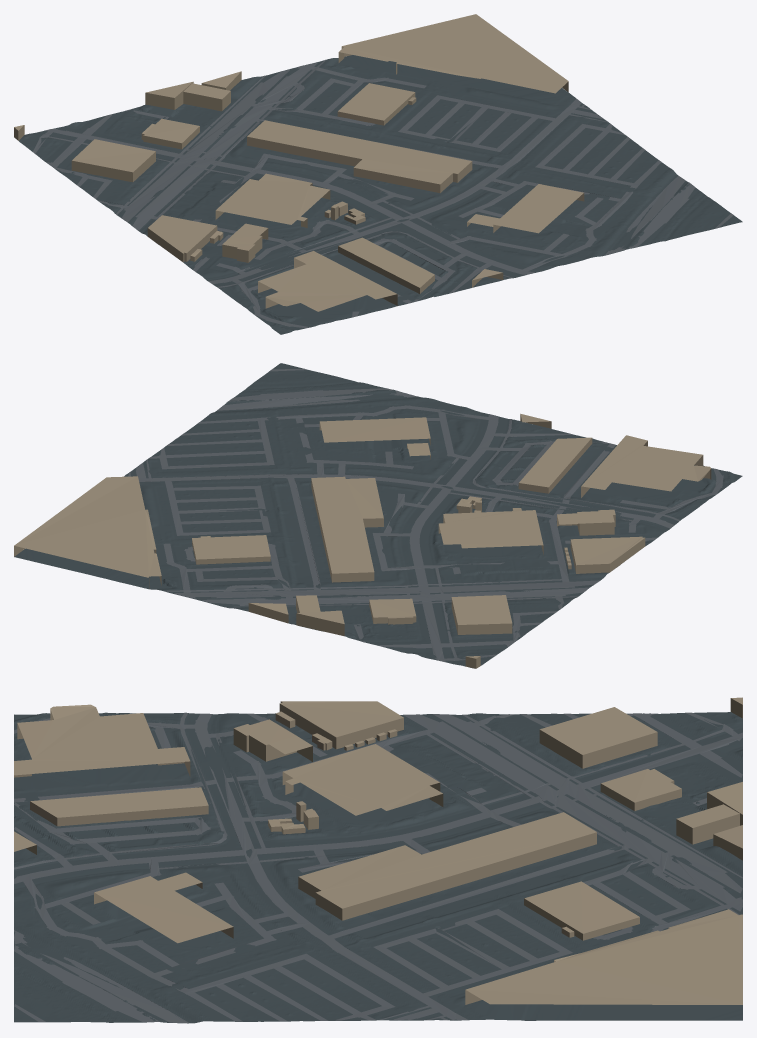
Rendered from epsg26910-1443-10878.lod0.glb.
3 views of the same model, one above another, from view 1: azimuth 30°, elevation 25°; view 2: azimuth 150°, elevation 25°; view 3: azimuth 270°, elevation 25° (orthographic). The views are drawn at different scales.
Visible parts, largest first — view 1: epsg26910-1443-10878-lod0; view 2: epsg26910-1443-10878-lod0; view 3: epsg26910-1443-10878-lod0.
Part boxes in pixels (box(x1,y1,x2,y2)): epsg26910-1443-10878-lod0: box(14, 14, 742, 334); epsg26910-1443-10878-lod0: box(14, 363, 742, 668); epsg26910-1443-10878-lod0: box(14, 697, 742, 1023).
Bounding box in the file's own units: 384 × 12.59 × 384.
